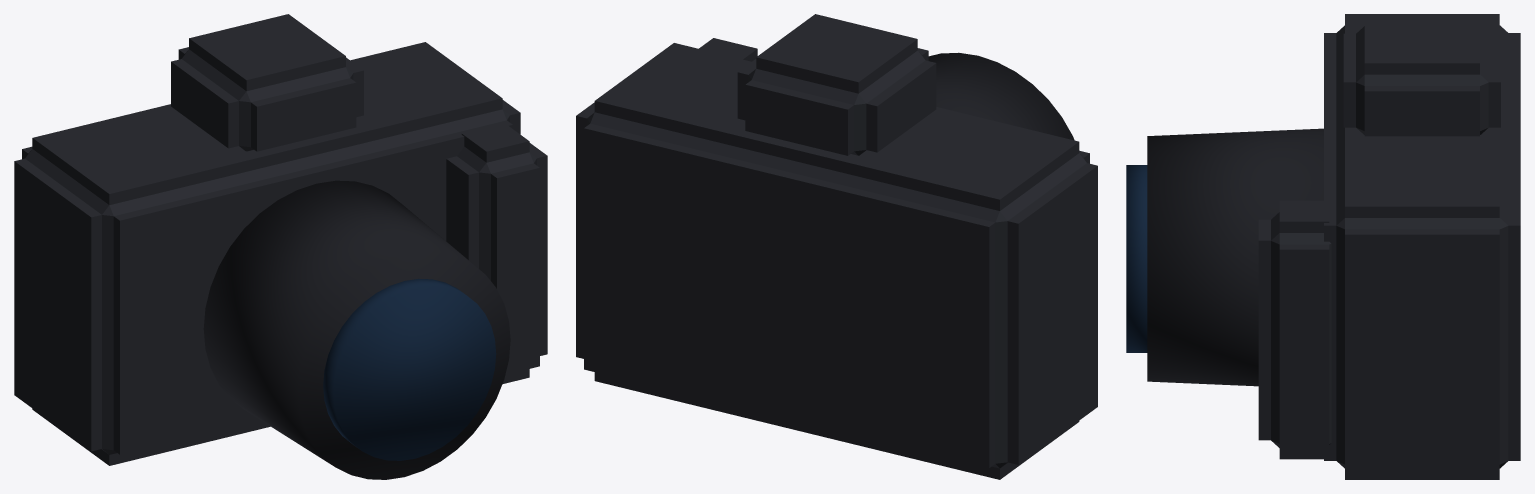
The model's file is camera.glb.
The picture shows the model from 3 angles, left to right: view 1: azimuth 30°, elevation 25°; view 2: azimuth 150°, elevation 25°; view 3: azimuth 270°, elevation 25°; orthographic projection. The views are drawn at different scales.
Parts seen in each view (by area): view 1: camera; view 2: camera; view 3: camera.
Boxes of the visible parts, x1=… form: camera: x1=14, y1=14, x2=547, y2=479; camera: x1=576, y1=14, x2=1097, y2=479; camera: x1=1126, y1=14, x2=1520, y2=479.
Bounding box in the file's own units: 0.19 × 0.145 × 0.1505.
